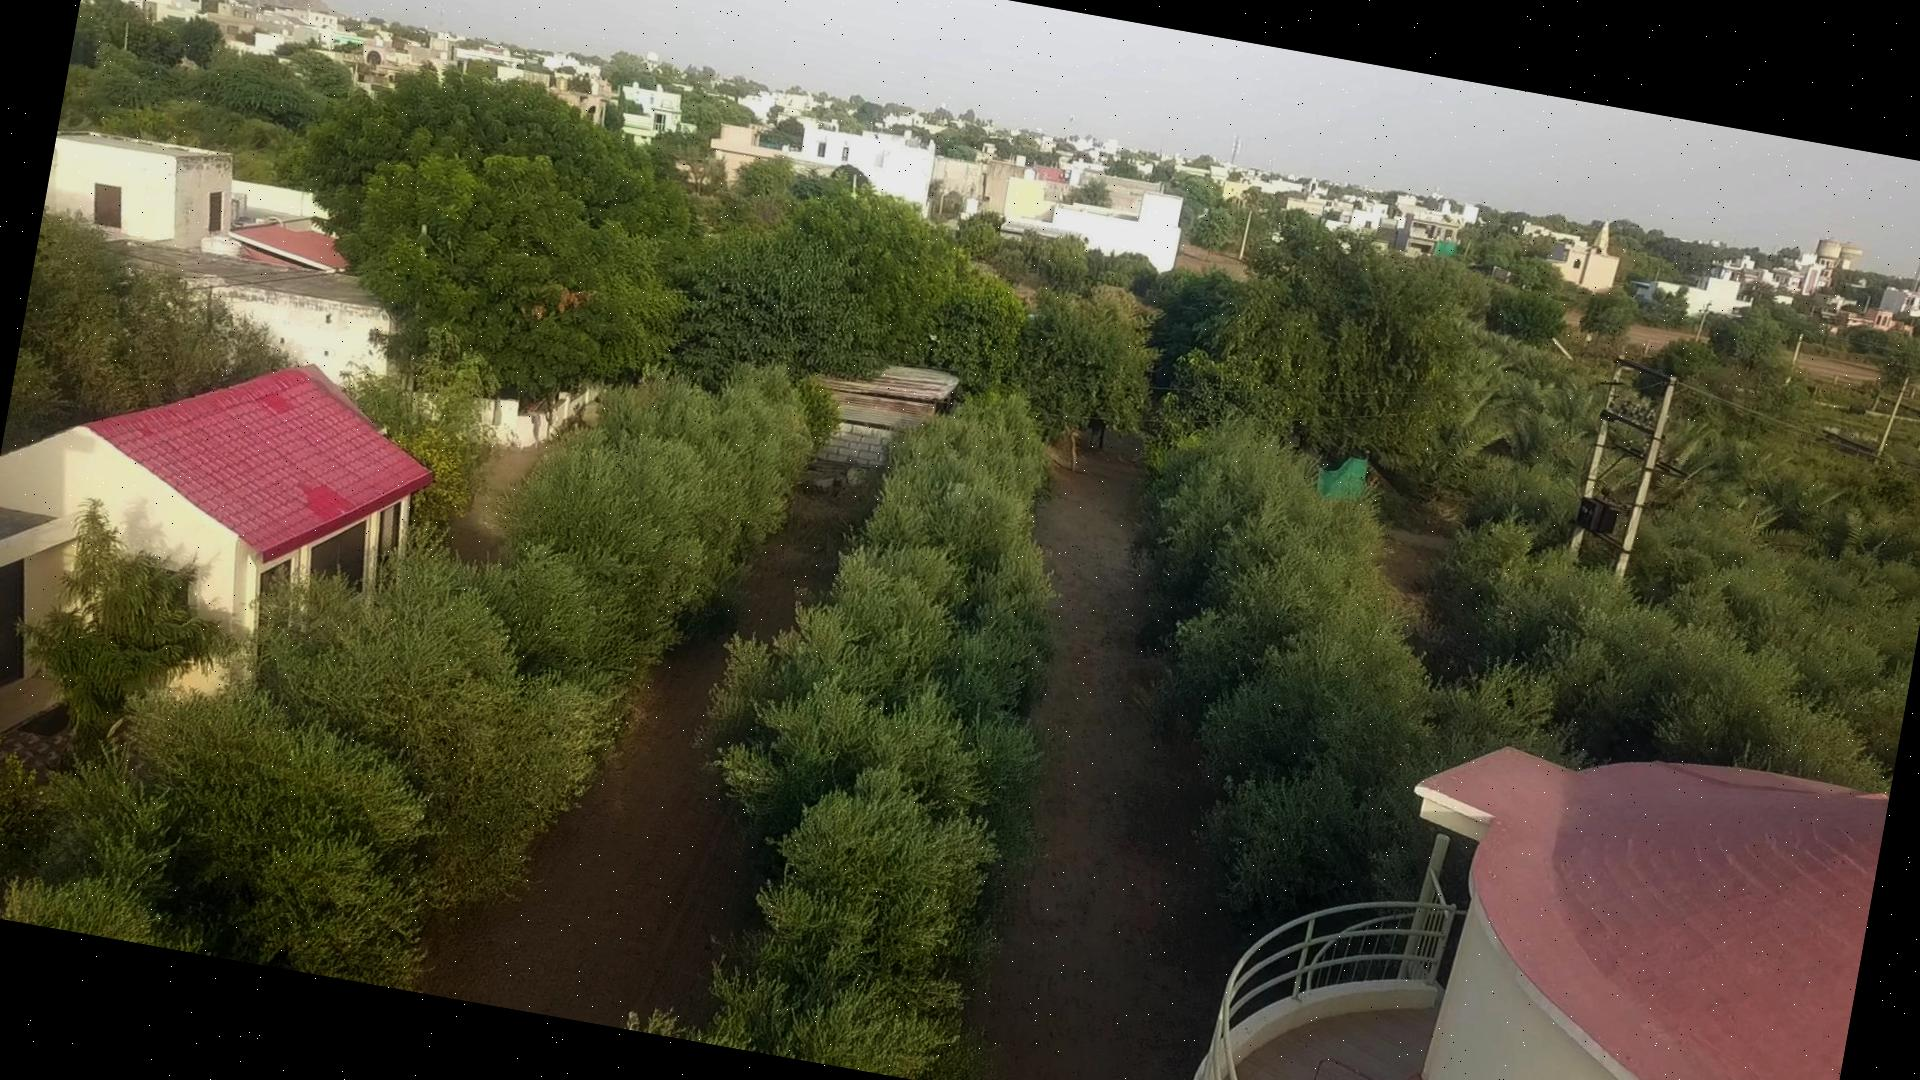canopy: (8, 367, 833, 988), (626, 390, 1054, 1080), (1147, 430, 1548, 911)
road: (425, 487, 870, 1027), (964, 435, 1240, 1080)
